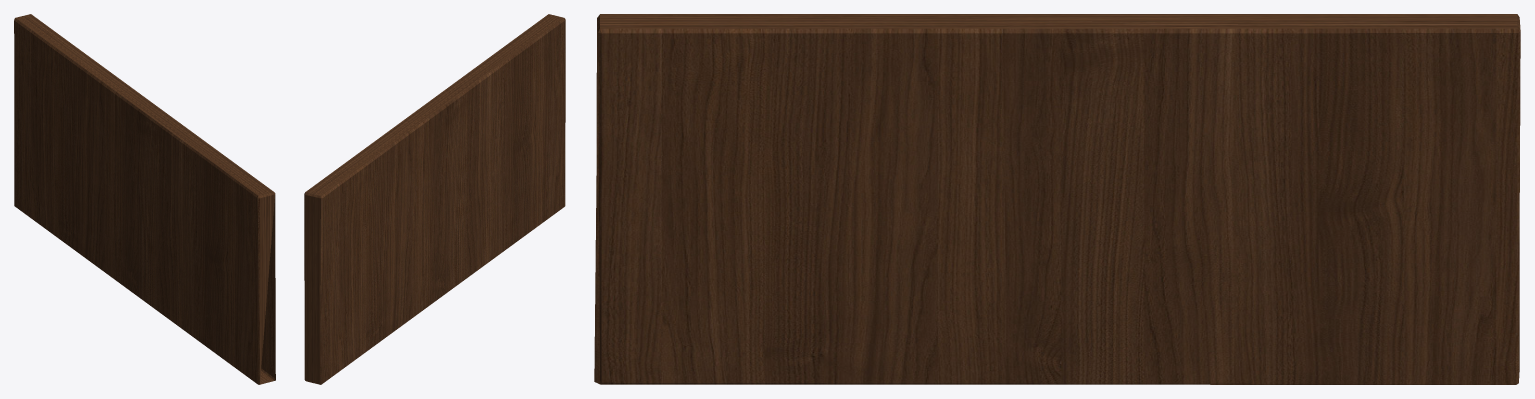
File: modesty-ee6650962b9c.glb
3 views of the same model, side by side, from view 1: azimuth 30°, elevation 25°; view 2: azimuth 150°, elevation 25°; view 3: azimuth 270°, elevation 25° (orthographic). The views are drawn at different scales.
Parts seen in each view (by area): view 1: Object023; view 2: Object023; view 3: Object023.
Boxes of the visible parts, <box> form: Object023: <box>14,14,275,384</box>; Object023: <box>304,14,565,384</box>; Object023: <box>594,14,1520,384</box>.
Size of the model in its own units: 0.018 by 0.1741 by 0.4094.
Materials: 1 (1 with a texture image).
